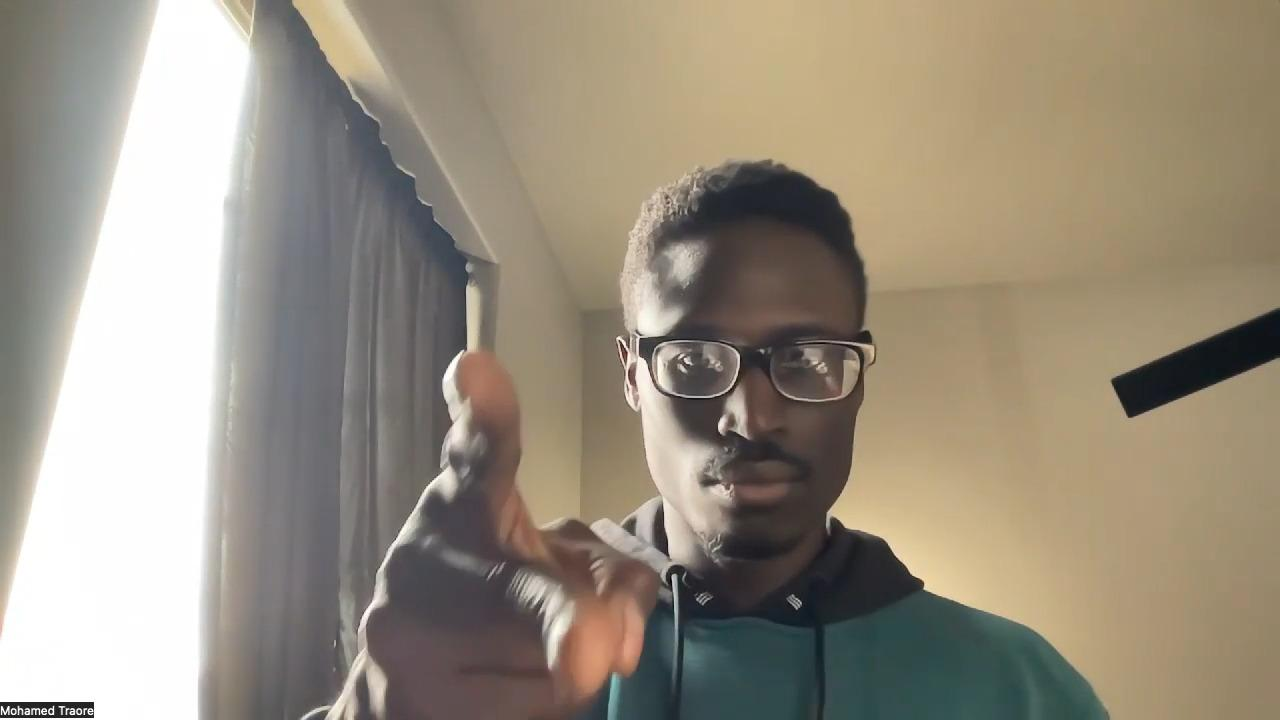Scissors: (357, 350, 661, 720)
